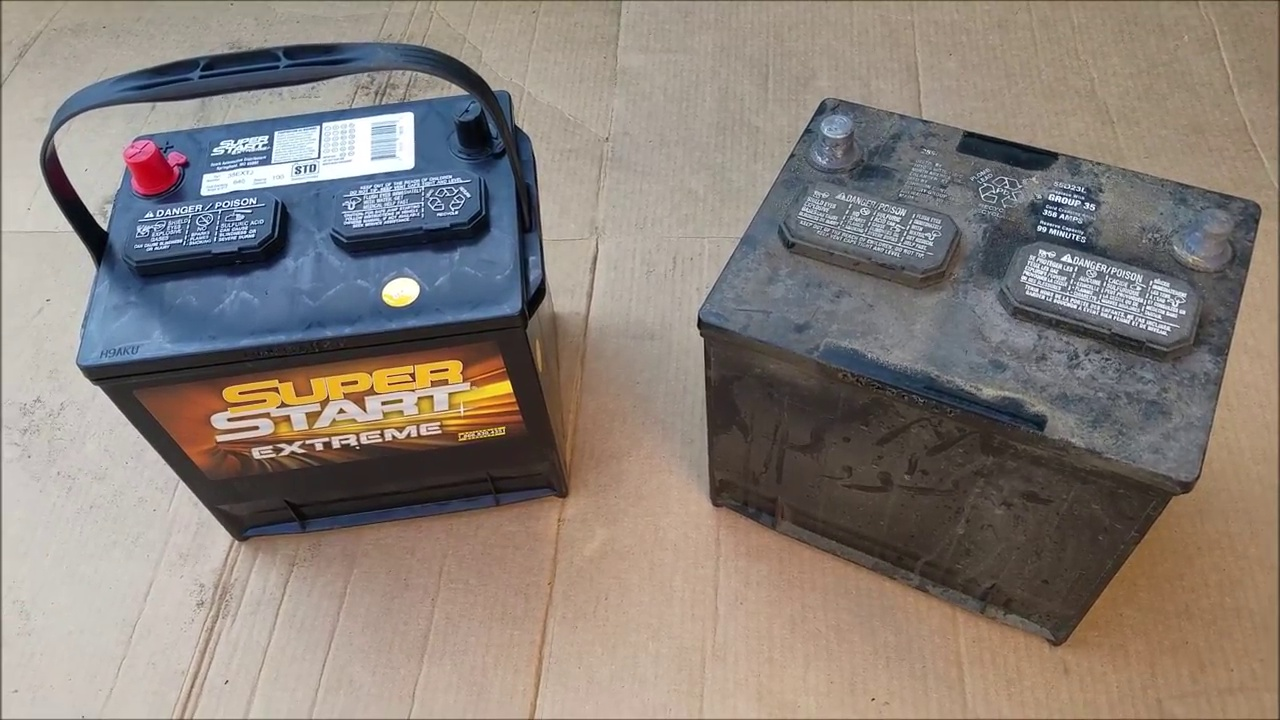battery: (710, 96, 1263, 497), (74, 89, 525, 363)
